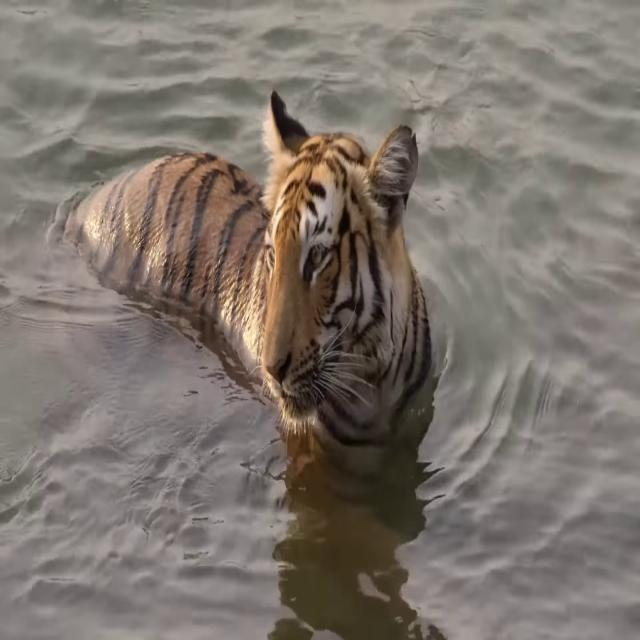tiger: (60, 92, 432, 475)
